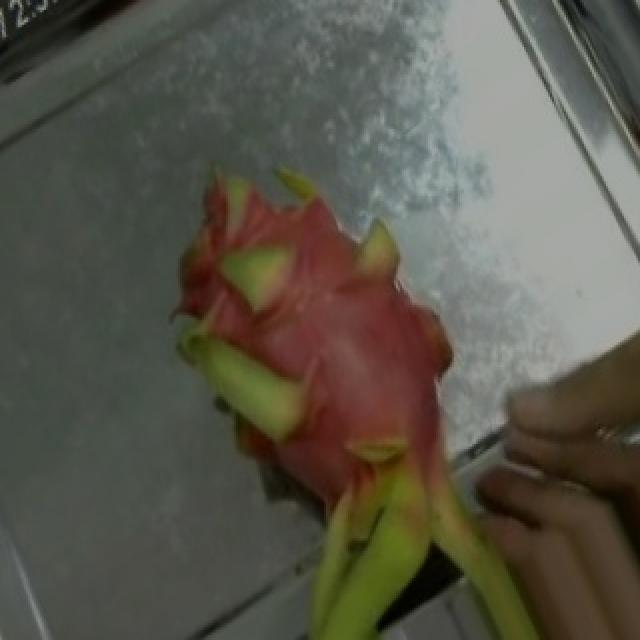fruit: (78, 99, 522, 563)
